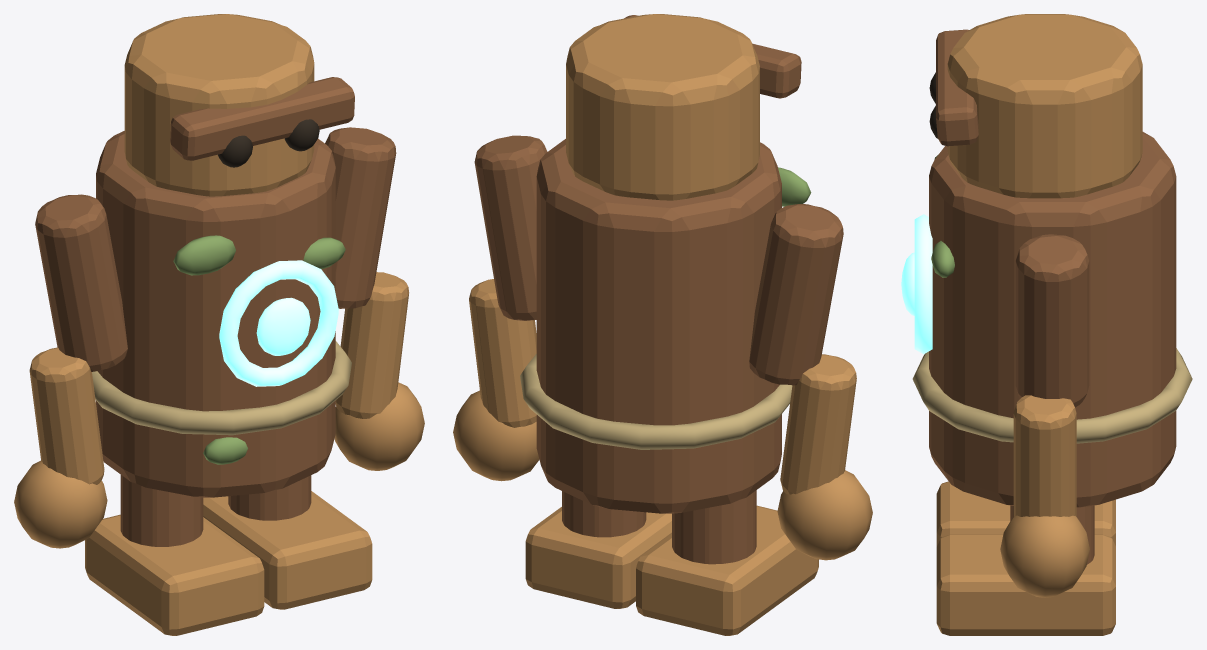
Rendered from old-wooden-instructor.glb.
3 renders of one model, left to right at view 1: azimuth 30°, elevation 25°; view 2: azimuth 150°, elevation 25°; view 3: azimuth 270°, elevation 25°, orthographic. The views are drawn at different scales.
Parts seen in each view (by area): view 1: torso, head, foot_-1, upper_arm_-1, foot_1, upper_arm_1, forearm_-1, brow, forearm_1, rope_belt, chest_rune_ring, hand_-1 (+9 smaller); view 2: torso, head, foot_-1, upper_arm_-1, upper_arm_1, foot_1, forearm_-1, rope_belt, forearm_1, hand_-1, hand_1, leg_-1 (+3 smaller); view 3: torso, head, foot_1, upper_arm_1, forearm_1, rope_belt, hand_1, foot_-1, brow, chest_rune_ring, chest_rune, leg_1 (+1 smaller).
Part boxes in pixels (x1=…): torso: x1=96, y1=131, x2=335, y2=497; head: x1=124, y1=14, x2=314, y2=196; foot_-1: x1=85, y1=514, x2=264, y2=635; upper_arm_-1: x1=35, y1=194, x2=127, y2=371; foot_1: x1=203, y1=491, x2=372, y2=609; upper_arm_1: x1=325, y1=127, x2=396, y2=308; forearm_-1: x1=29, y1=347, x2=104, y2=484; brow: x1=170, y1=77, x2=354, y2=160; forearm_1: x1=335, y1=272, x2=409, y2=418; rope_belt: x1=92, y1=341, x2=351, y2=435; chest_rune_ring: x1=219, y1=260, x2=338, y2=386; hand_-1: x1=14, y1=460, x2=107, y2=548; torso: x1=536, y1=139, x2=781, y2=513; head: x1=566, y1=14, x2=759, y2=200; foot_-1: x1=636, y1=505, x2=818, y2=635; upper_arm_-1: x1=749, y1=204, x2=843, y2=385; upper_arm_1: x1=474, y1=135, x2=547, y2=320; foot_1: x1=525, y1=507, x2=671, y2=608; forearm_-1: x1=780, y1=354, x2=856, y2=494; rope_belt: x1=520, y1=354, x2=792, y2=449; forearm_1: x1=469, y1=279, x2=536, y2=427; hand_-1: x1=777, y1=470, x2=872, y2=560; hand_1: x1=453, y1=390, x2=539, y2=481; leg_-1: x1=672, y1=490, x2=756, y2=564; torso: x1=929, y1=132, x2=1176, y2=507; head: x1=947, y1=14, x2=1142, y2=198; foot_1: x1=936, y1=534, x2=1115, y2=635; upper_arm_1: x1=1015, y1=234, x2=1089, y2=407; forearm_1: x1=1013, y1=395, x2=1076, y2=516; rope_belt: x1=912, y1=348, x2=1192, y2=443; hand_1: x1=1000, y1=515, x2=1089, y2=597; foot_-1: x1=936, y1=481, x2=1115, y2=546; brow: x1=936, y1=29, x2=978, y2=146; chest_rune_ring: x1=914, y1=214, x2=932, y2=354; chest_rune: x1=901, y1=252, x2=914, y2=315; leg_1: x1=1010, y1=505, x2=1094, y2=564.
Size of the model in its own units: 1.26 by 1.6 by 0.78.
